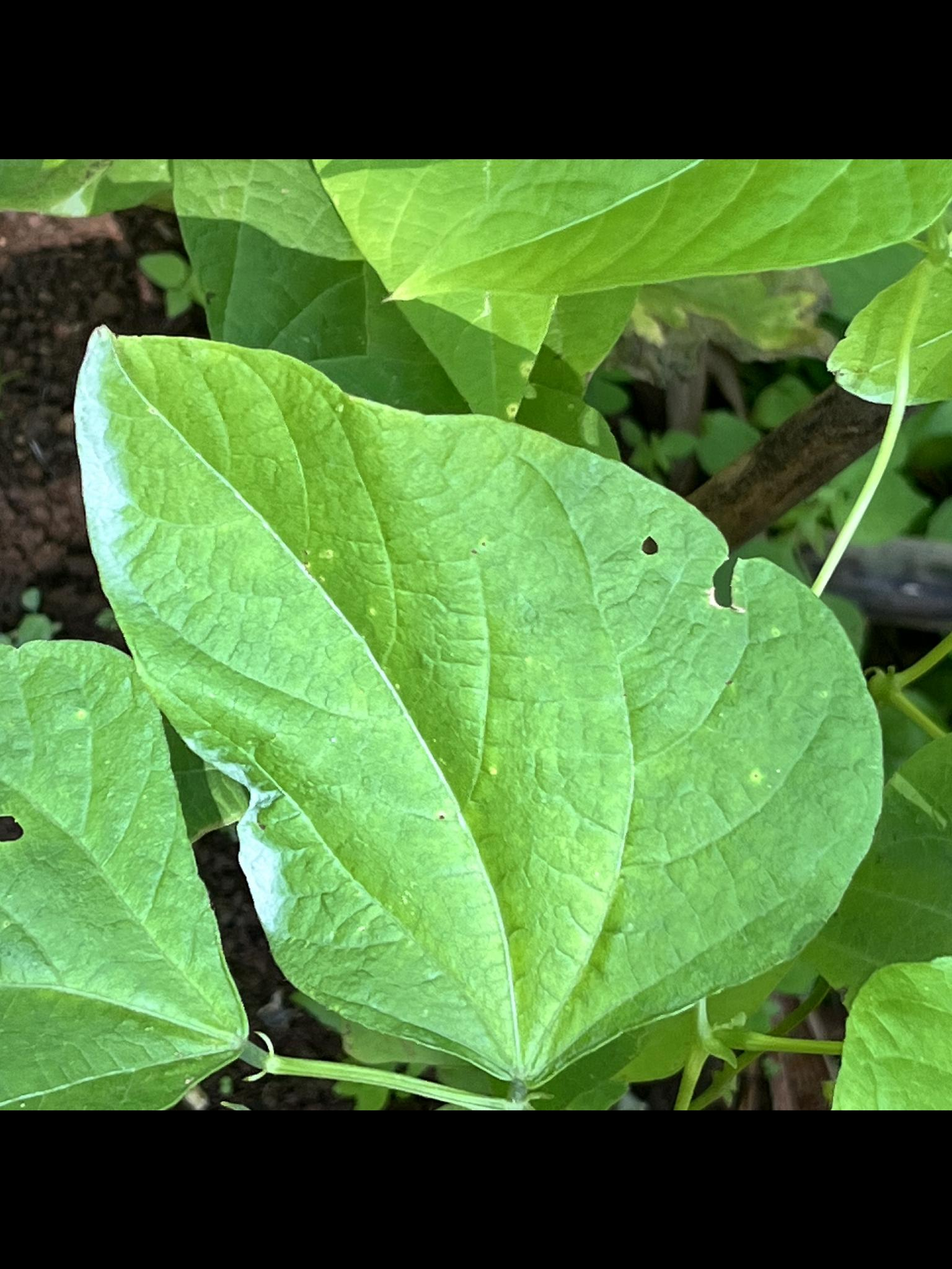embun tepung: (200, 738, 293, 949), (66, 344, 137, 609)
